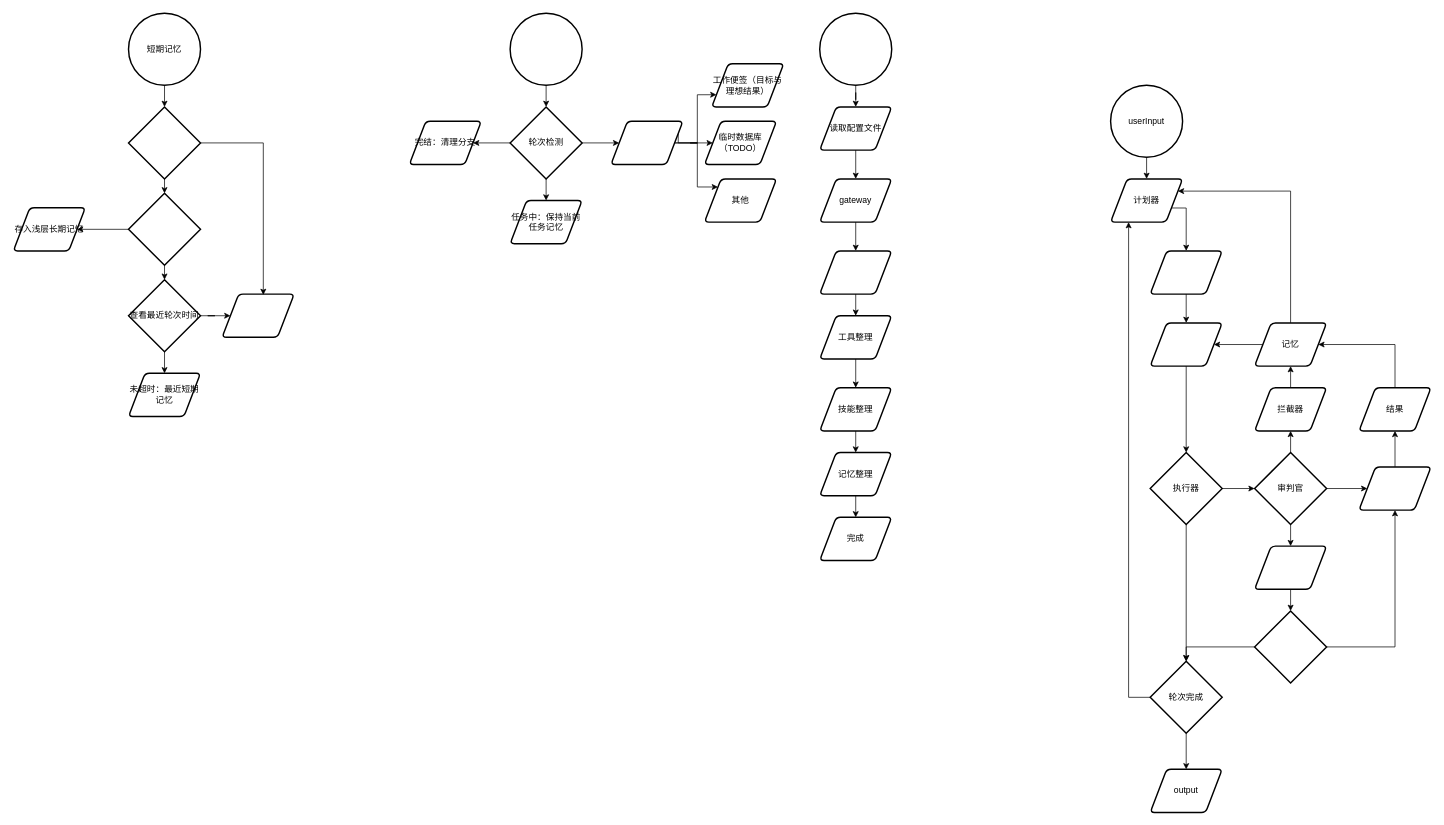
This 1444x825 diagram has some shape labels left out. The centre of each missing label's shape, as x and y in pixels:
run: (855,49)
任务 记忆: (545,49)
内部评估: (1186,272)
初始化插件: (855,272)
弹窗提示: (1290,646)
是否存在短期记忆: (164,142)
是否有完结标记: (164,229)
模型: (1186,344)
第一次：新建任务记忆: (646,142)
能力: (1394,488)
解释: (1290,567)
超时或不存在：新建: (257,315)
